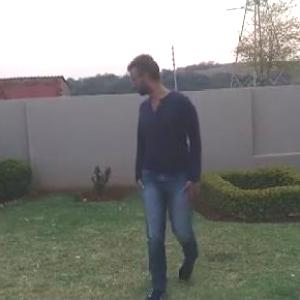follow: (127, 43, 206, 276)
